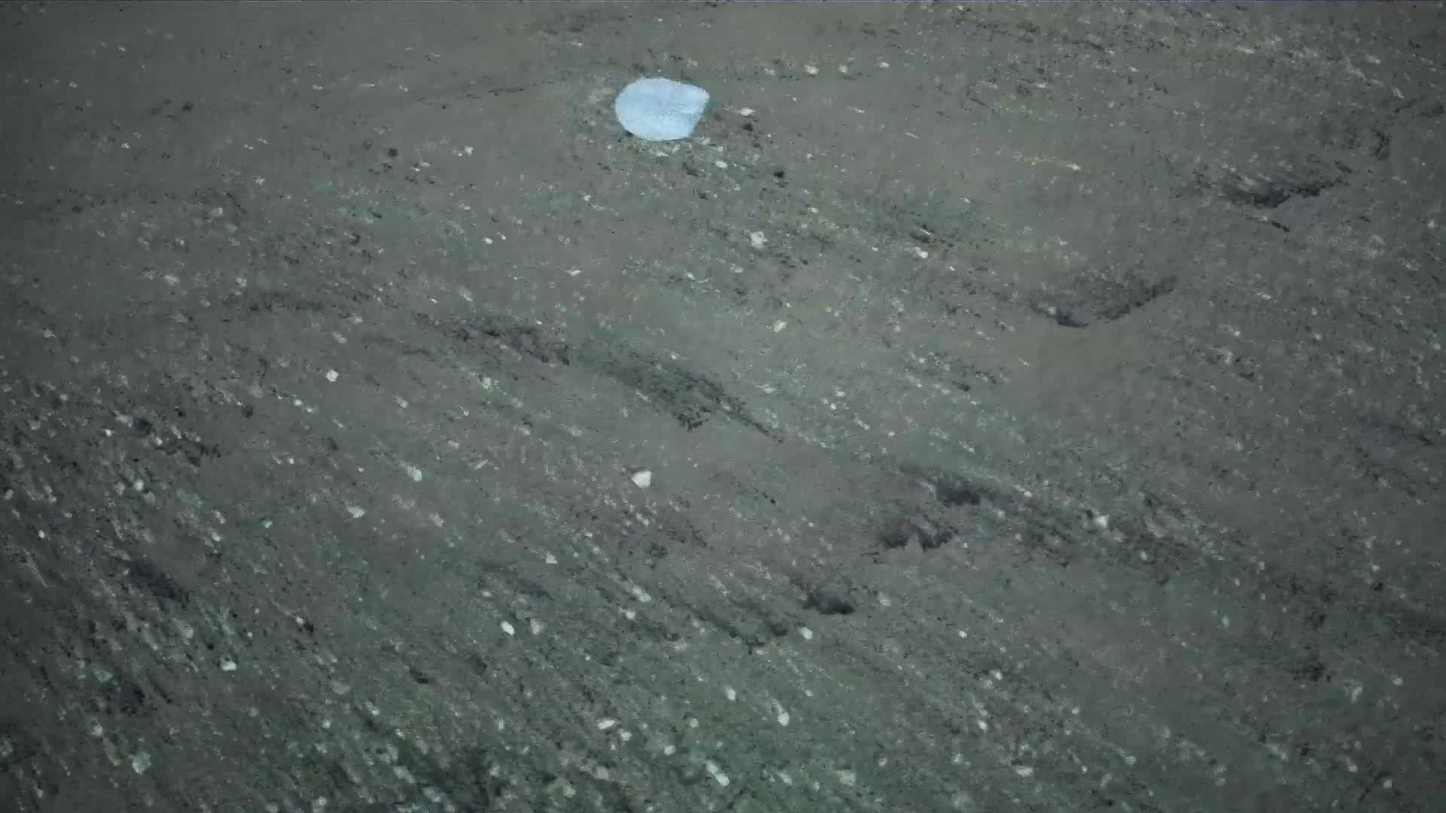Target: (611, 76, 711, 144)
